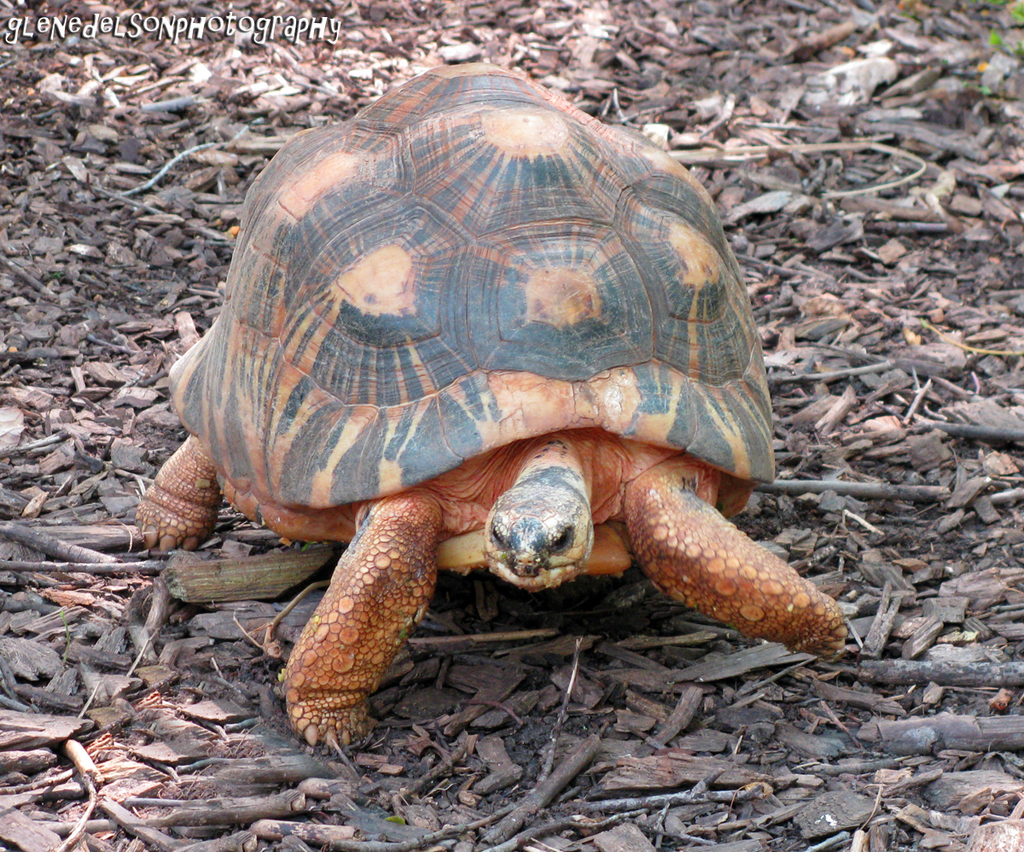Sea turtles: (128, 58, 849, 746)
